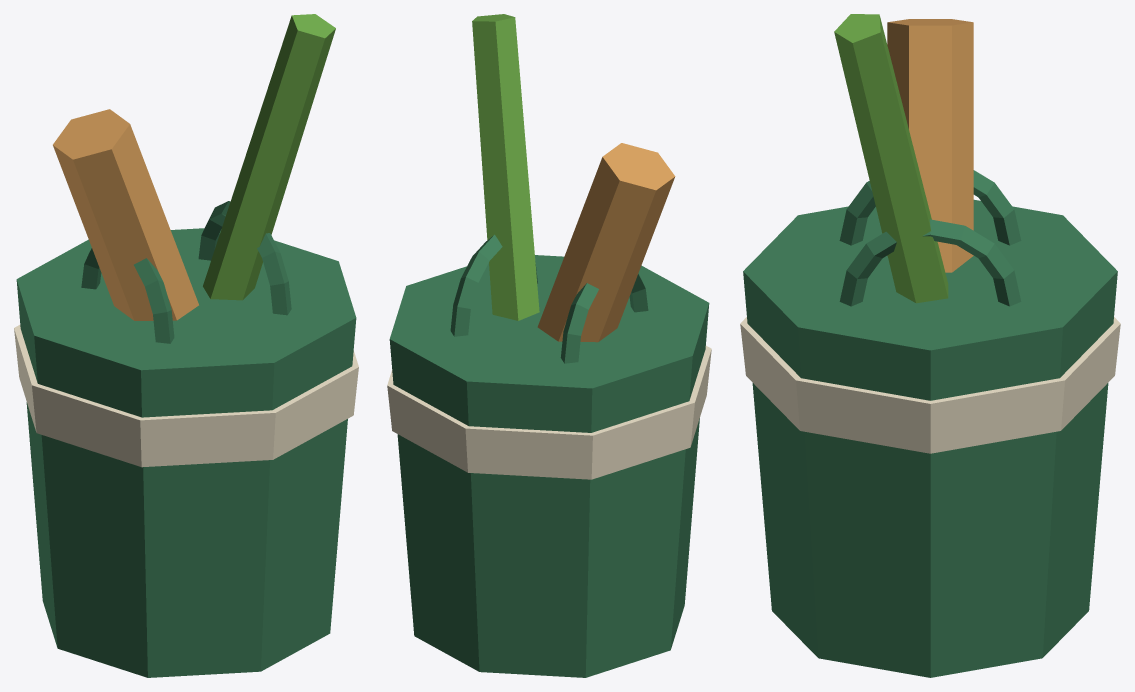
Rendered from rally_shopping_bag.glb.
3 views of the same model, side by side, from view 1: azimuth 30°, elevation 25°; view 2: azimuth 150°, elevation 25°; view 3: azimuth 270°, elevation 25° (orthographic). The views are drawn at different scales.
Visible parts, largest first — view 1: bag_bag_weave, bag_bag_stripe, bag_bread, bag_leek; view 2: bag_bag_weave, bag_bag_stripe, bag_bread, bag_leek; view 3: bag_bag_weave, bag_bag_stripe, bag_leek, bag_bread.
Boxes of the visible parts, x1,y1,x2,y2 form: bag_bag_weave: (16,201,356,677); bag_bag_stripe: (14,325,358,467); bag_bread: (53,109,198,320); bag_leek: (203,14,335,300); bag_bag_weave: (389,234,709,677); bag_bag_stripe: (387,345,711,479); bag_bread: (537,143,675,342); bag_leek: (472,14,539,320); bag_bag_weave: (743,170,1117,677); bag_bag_stripe: (740,317,1120,453); bag_leek: (834,14,948,303); bag_bread: (887,19,973,272).
Size of the model in its own units: 0.264 by 0.489 by 0.264.
